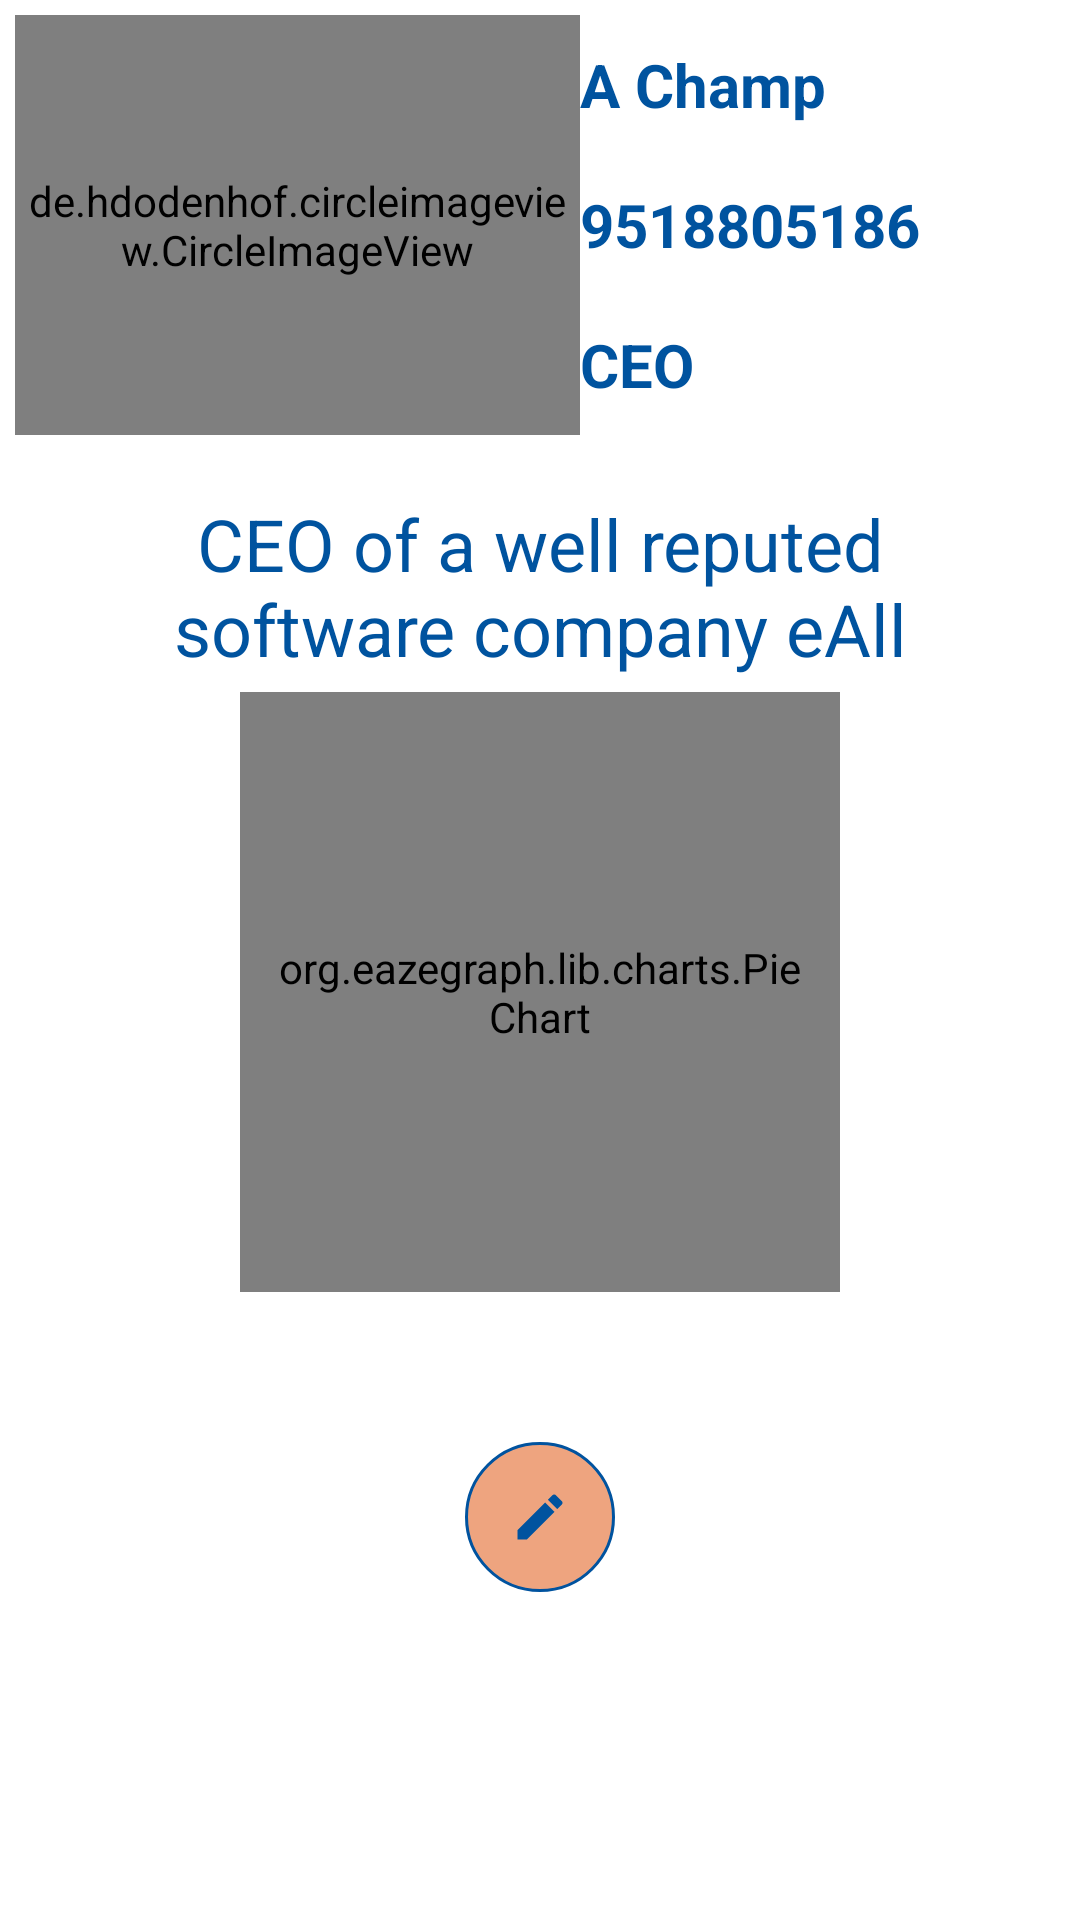

Locate icon controls on the screen. Image size 1080w x 1920h, boxes as [x1, y1, x2, y2].
edit: [465, 1442, 615, 1592]
